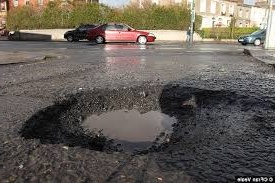pothole: (10, 76, 247, 170), (0, 49, 66, 70)
